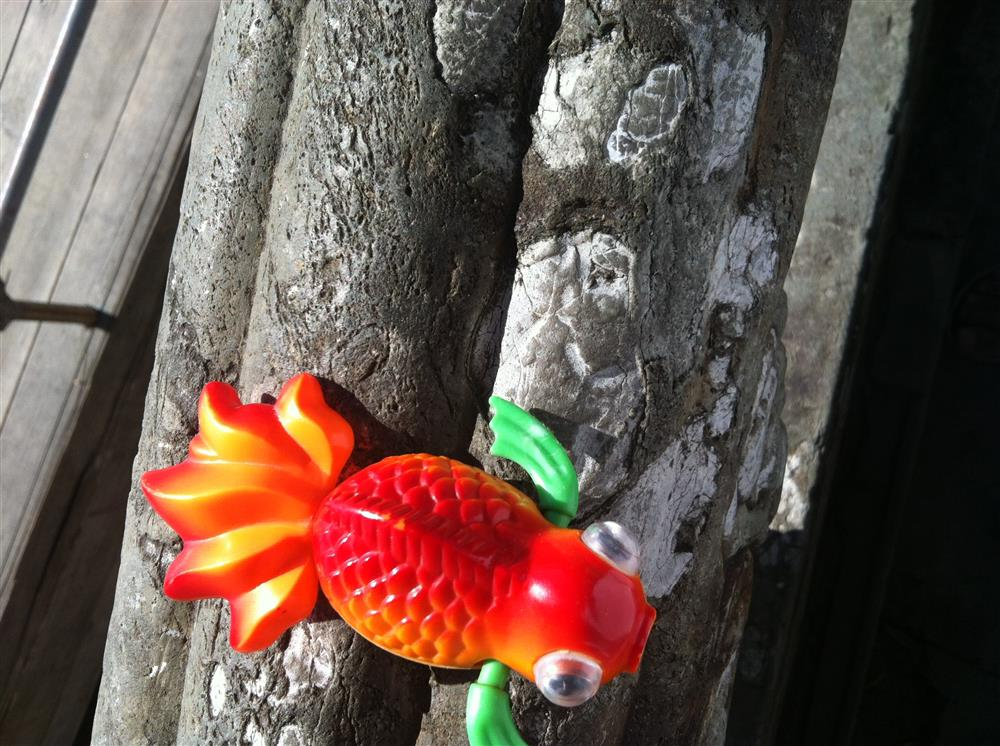toy_golden_fish: (149, 374, 659, 742)
